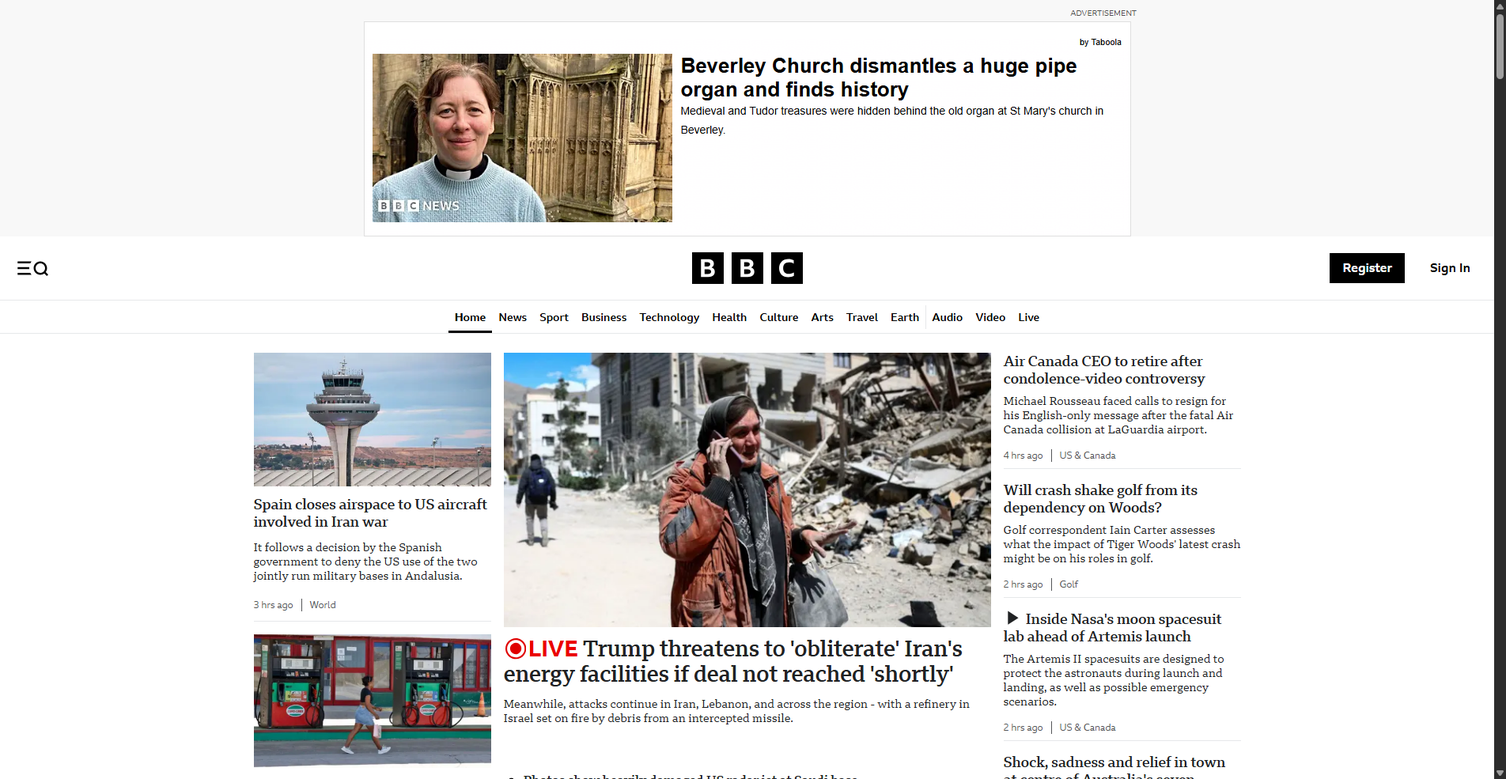button: (1332, 255, 1403, 282), (1419, 255, 1481, 282), (13, 256, 52, 280)
link: (254, 353, 491, 621), (254, 634, 491, 779), (1003, 611, 1241, 740), (1003, 353, 1241, 468), (1003, 482, 1241, 597), (503, 636, 991, 687), (1003, 754, 1241, 779), (692, 252, 802, 284), (503, 772, 975, 779), (633, 301, 706, 334), (1332, 255, 1403, 282), (575, 301, 633, 334), (753, 301, 805, 334), (1419, 255, 1481, 282), (706, 301, 753, 334), (448, 301, 492, 334), (840, 301, 884, 334), (926, 301, 969, 334), (969, 301, 1012, 334), (533, 301, 575, 334), (884, 301, 926, 334), (492, 301, 533, 334), (805, 301, 840, 334), (1012, 301, 1046, 334)
